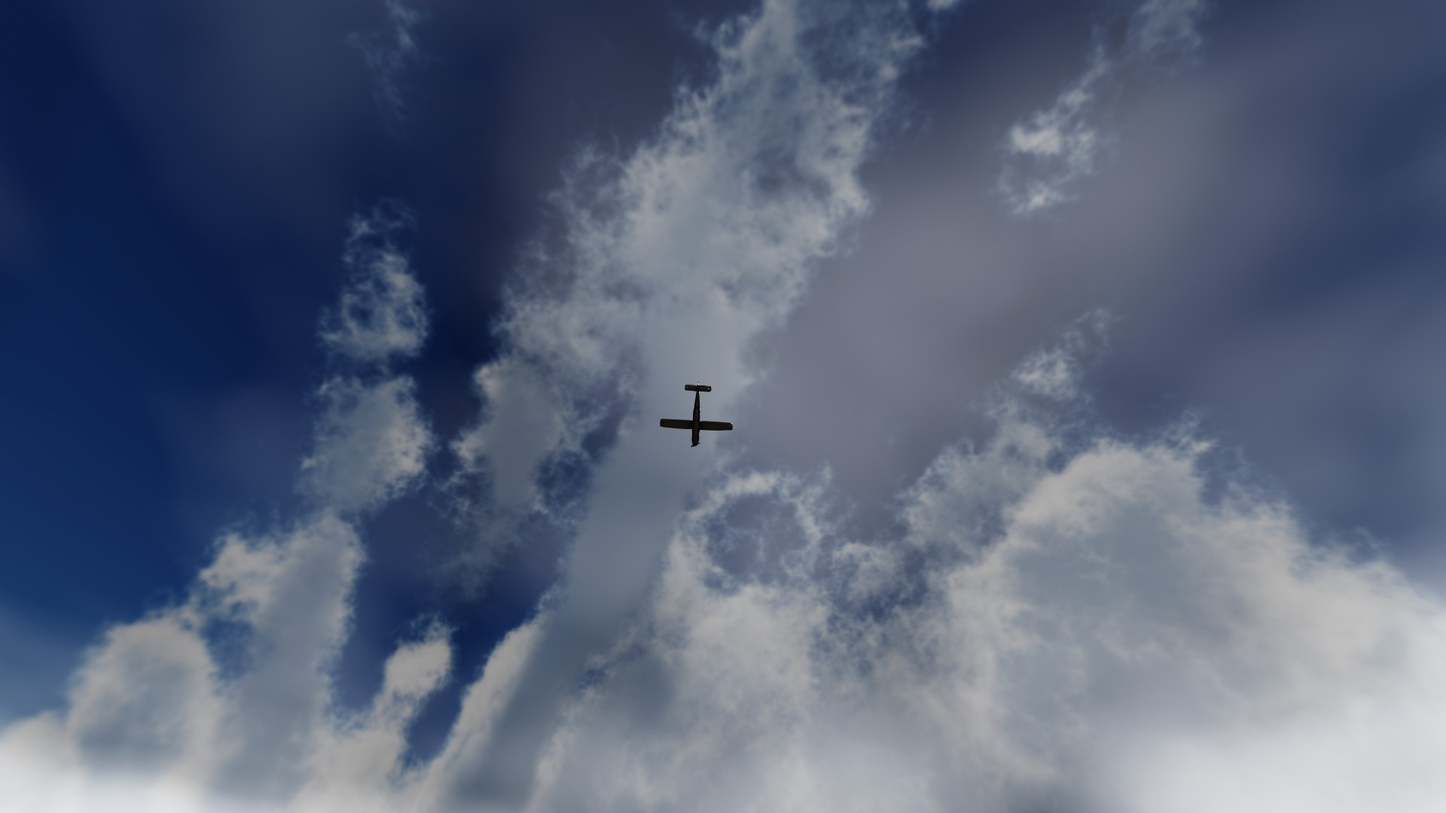drone_other: (660, 382, 733, 447)
